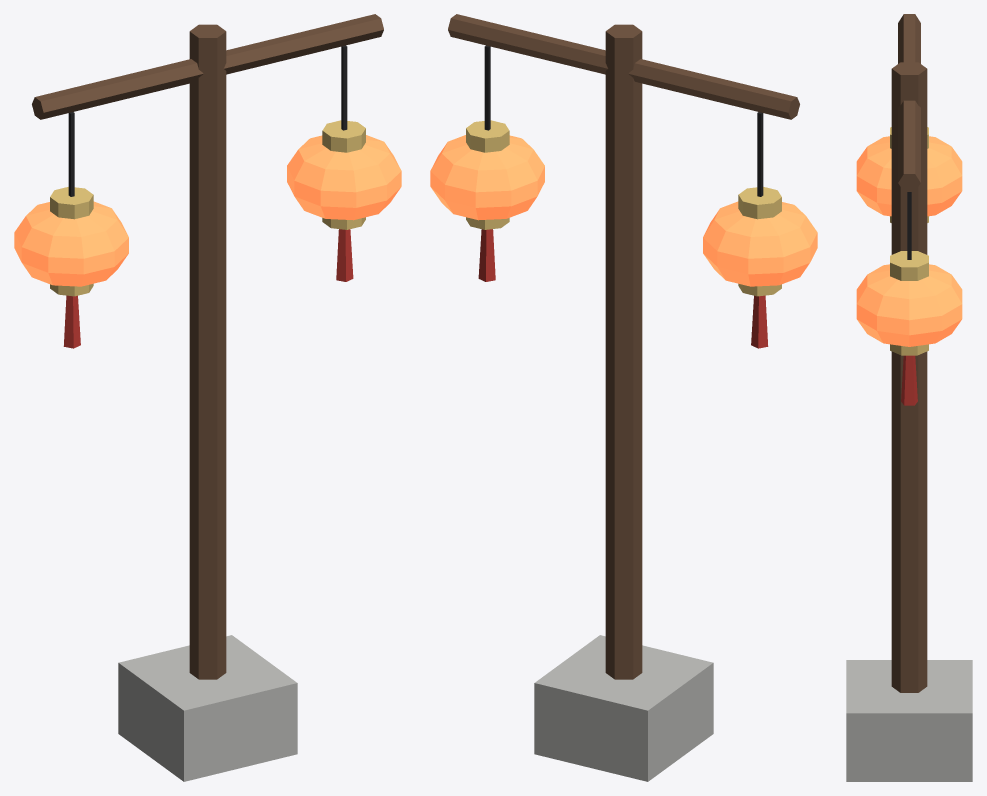
Rendered from lantern_post.glb.
The picture shows the model from 3 angles, left to right: view 1: azimuth 30°, elevation 25°; view 2: azimuth 150°, elevation 25°; view 3: azimuth 270°, elevation 25°; orthographic projection. The views are drawn at different scales.
Visible parts, largest first — view 1: lantern_post; view 2: lantern_post; view 3: lantern_post.
Boxes of the visible parts, x1,y1,x2,y2 form: lantern_post: (14, 14, 401, 781); lantern_post: (430, 14, 817, 781); lantern_post: (846, 14, 972, 781).
Bounding box in the file's own units: 1.64 × 3 × 0.5.
